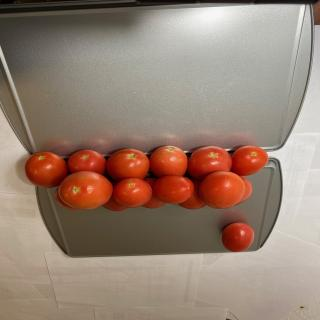Chilli: (24, 145, 269, 211)
Tomato: (58, 171, 113, 209), (198, 171, 246, 209), (25, 152, 68, 188), (188, 146, 232, 180), (106, 148, 150, 181), (149, 146, 188, 178), (153, 175, 195, 204), (112, 178, 152, 208), (232, 145, 268, 176), (67, 149, 106, 175), (222, 222, 254, 252), (235, 176, 253, 206)
